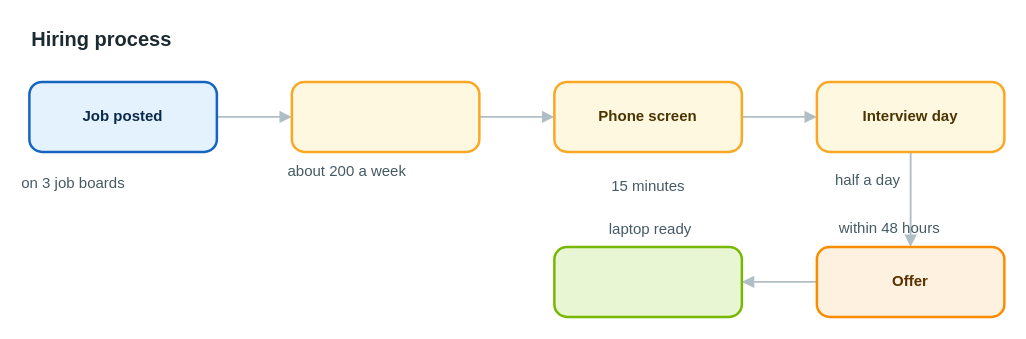
This 1026x339 diagram has some shape labels left out. The shapes that lost their labels are listed below. From the top down, each one's centre as x and y in pixels, then its label:
the point at 385,116: Applications
the point at 647,281: First day
